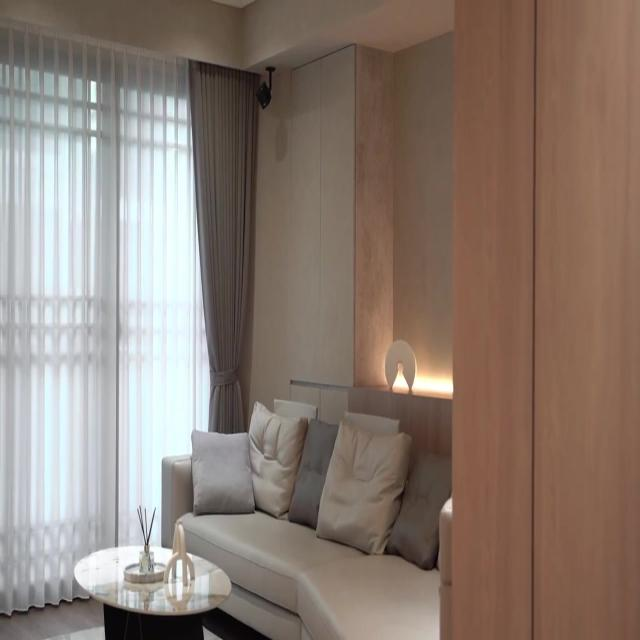door: (450, 0, 639, 638)
obstacle: (161, 388, 453, 638), (74, 543, 232, 638)
